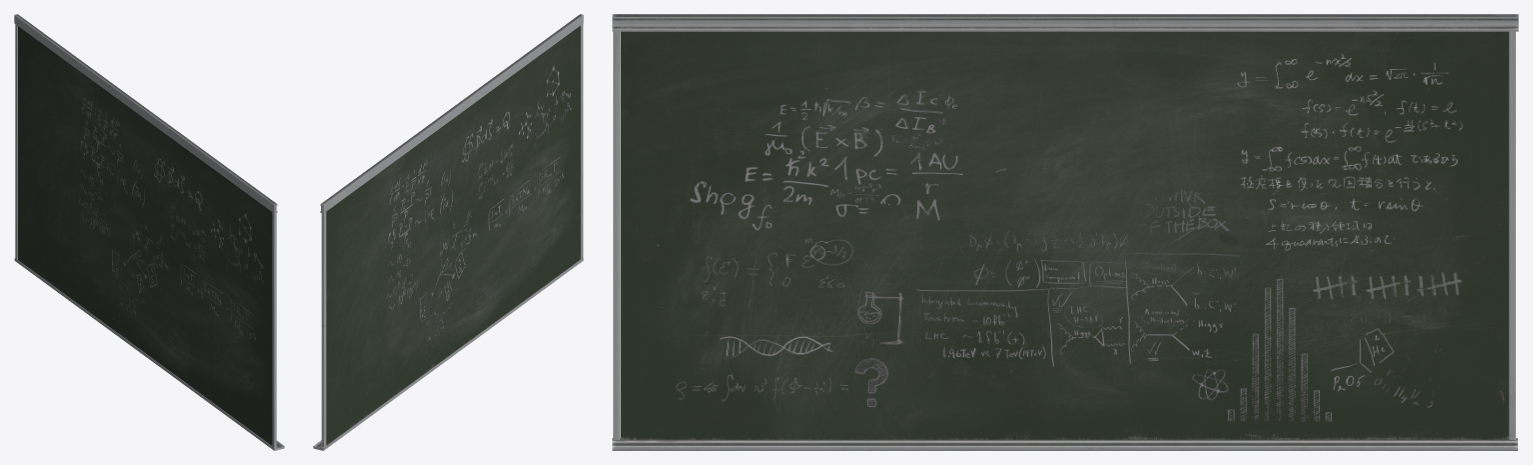
File: SM_Chalkboard_01a.fbx
3 views of the same model, side by side, from view 1: azimuth 30°, elevation 25°; view 2: azimuth 150°, elevation 25°; view 3: azimuth 270°, elevation 25° (orthographic). The views are drawn at different scales.
Parts seen in each view (by area): view 1: SM_Chalkboard_01a_LOD0; view 2: SM_Chalkboard_01a_LOD0; view 3: SM_Chalkboard_01a_LOD0.
Boxes of the visible parts, box(x1,y1,x2,y2) form: SM_Chalkboard_01a_LOD0: box(14, 14, 284, 450); SM_Chalkboard_01a_LOD0: box(313, 14, 583, 450); SM_Chalkboard_01a_LOD0: box(612, 14, 1518, 450).
Size of the model in its own units: 7.07 by 301 by 157.
Materials: 1 (1 with a texture image).
